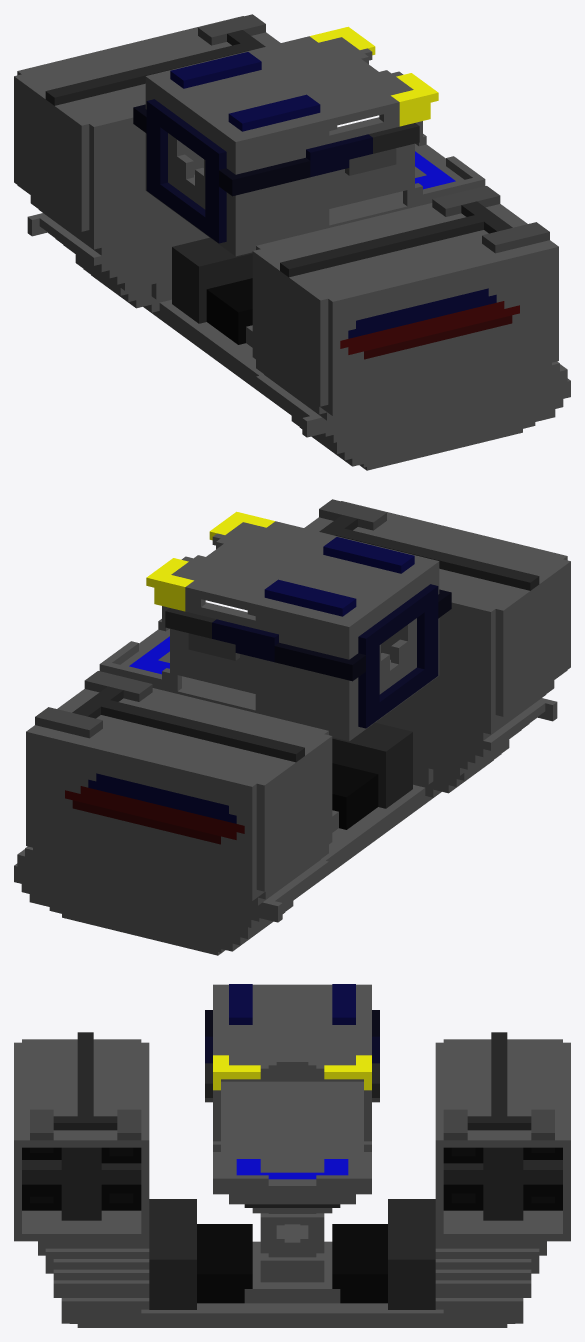
File: MissileBattery-1.obj
3 views of the same model, one above another, from view 1: azimuth 30°, elevation 25°; view 2: azimuth 150°, elevation 25°; view 3: azimuth 270°, elevation 25° (orthographic). The views are drawn at different scales.
Parts seen in each view (by area): view 1: MissileBattery-1; view 2: MissileBattery-1; view 3: MissileBattery-1.
Part boxes in pixels (x1=…): MissileBattery-1: x1=14, y1=14, x2=570, y2=470; MissileBattery-1: x1=14, y1=499, x2=570, y2=955; MissileBattery-1: x1=14, y1=984, x2=570, y2=1327.
Size of the model in its own units: 35 by 38 by 70.
Materials: 1 (1 with a texture image).
